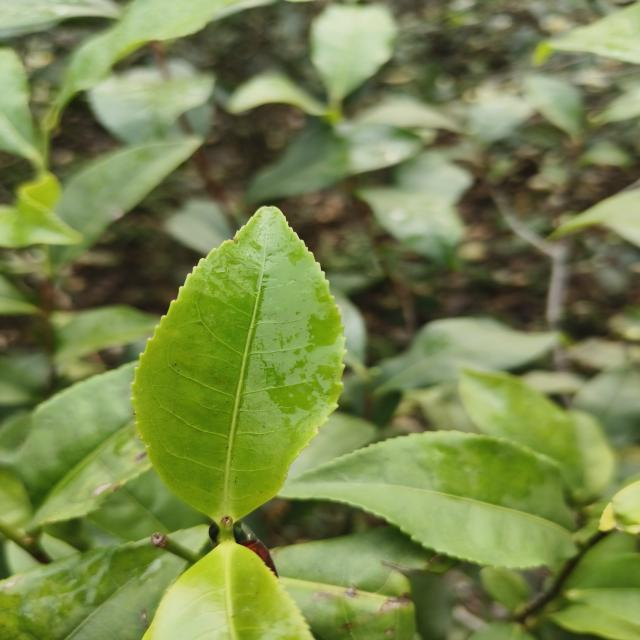Leaf: (133, 207, 344, 521), (281, 431, 576, 568), (49, 0, 240, 123), (14, 363, 151, 526), (51, 136, 202, 267), (0, 540, 186, 640), (143, 538, 313, 640), (459, 370, 581, 485), (374, 318, 556, 395), (247, 122, 422, 201), (311, 4, 397, 115), (90, 71, 213, 142), (359, 188, 463, 261), (0, 172, 82, 248), (55, 305, 159, 364), (549, 2, 640, 64), (573, 365, 640, 446), (226, 72, 328, 115), (523, 74, 584, 140)
